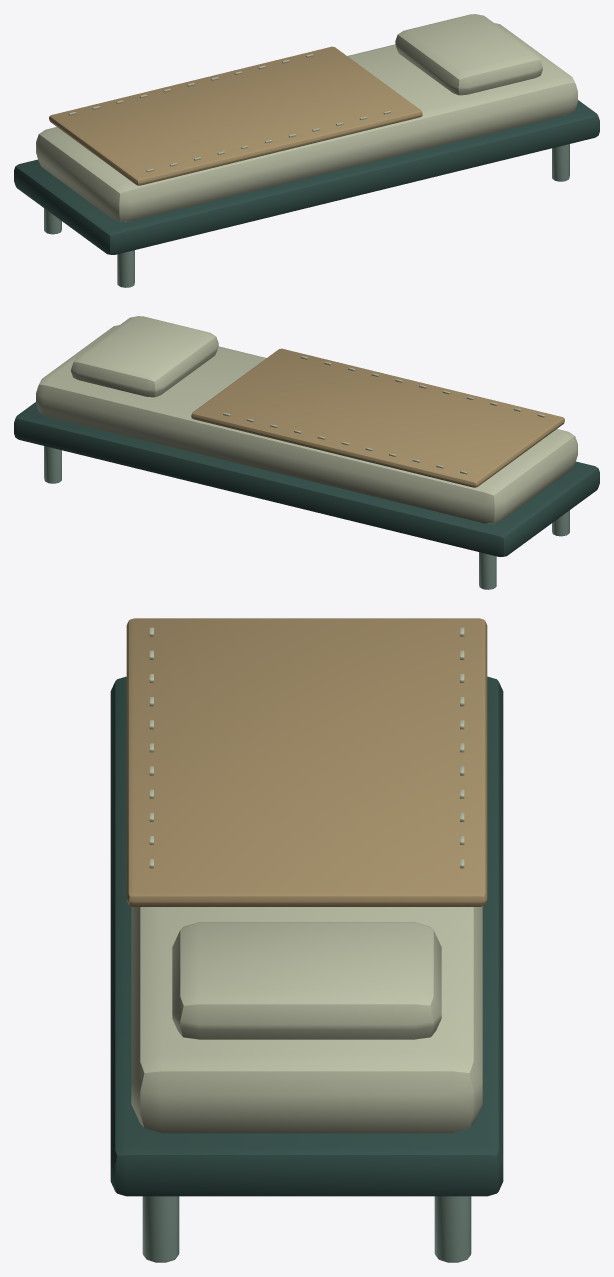
File: kf-bunk.glb
The picture shows the model from 3 angles, top to bottom: view 1: azimuth 30°, elevation 25°; view 2: azimuth 150°, elevation 25°; view 3: azimuth 270°, elevation 25°; orthographic projection. The views are drawn at different scales.
Parts seen in each view (by area): view 1: Fixture Canvas, Fixture Wood and fabric, Fixture Painted frame, Fixture Steel fittings; view 2: Fixture Canvas, Fixture Wood and fabric, Fixture Painted frame, Fixture Steel fittings; view 3: Fixture Wood and fabric, Fixture Canvas, Fixture Painted frame, Fixture Steel fittings.
Part boxes in pixels (x1=…): Fixture Canvas: x1=36, y1=14, x2=577, y2=221; Fixture Wood and fabric: x1=49, y1=46, x2=422, y2=185; Fixture Painted frame: x1=14, y1=100, x2=599, y2=254; Fixture Steel fittings: x1=44, y1=115, x2=569, y2=287; Fixture Canvas: x1=36, y1=316, x2=577, y2=523; Fixture Wood and fabric: x1=191, y1=348, x2=564, y2=487; Fixture Painted frame: x1=14, y1=402, x2=599, y2=556; Fixture Steel fittings: x1=44, y1=417, x2=569, y2=589; Fixture Wood and fabric: x1=126, y1=618, x2=487, y2=906; Fixture Canvas: x1=131, y1=627, x2=482, y2=1133; Fixture Painted frame: x1=110, y1=676, x2=503, y2=1196; Fixture Steel fittings: x1=142, y1=1196, x2=471, y2=1262.
Bounding box in the file's own units: 2.5 × 0.595 × 0.8601.
